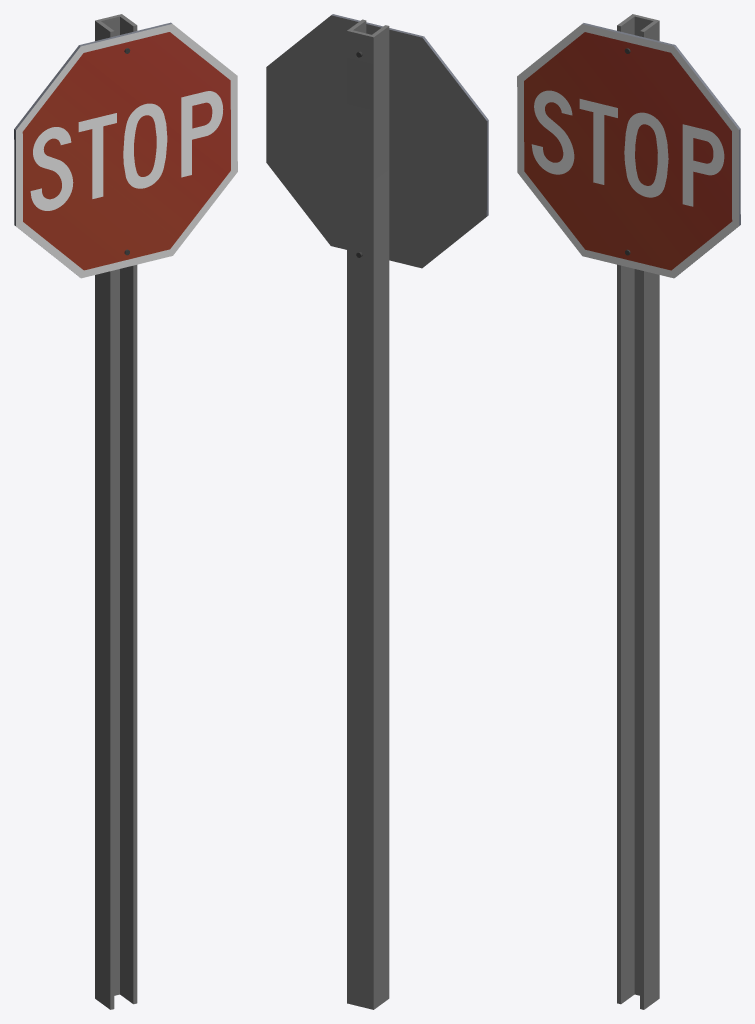
File: stop-sign.glb
3 renders of one model, left to right at view 1: azimuth 30°, elevation 25°; view 2: azimuth 150°, elevation 25°; view 3: azimuth 330°, elevation 25°, orthographic.
Visible parts, largest first — view 1: stop-sign; view 2: stop-sign; view 3: stop-sign.
Part boxes in pixels (left/top/right/bottom): stop-sign: left=14, top=14, right=237, bottom=1009; stop-sign: left=266, top=14, right=488, bottom=1009; stop-sign: left=517, top=14, right=740, bottom=1009.
Size of the model in its own units: 0.5745 by 2.42 by 0.0925.
1 material, 1 textured.
